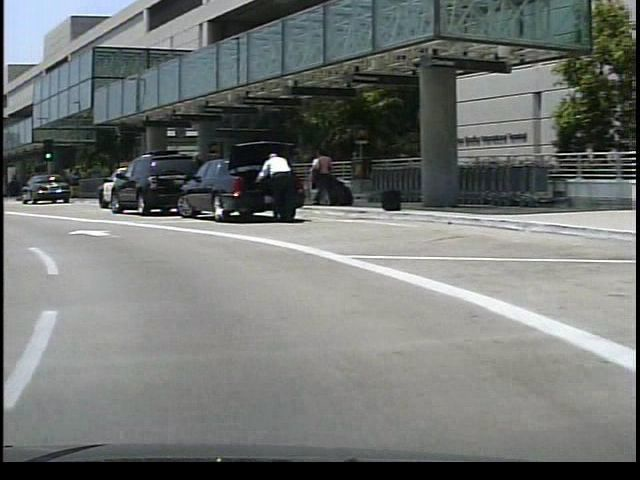person: (250, 150, 295, 228), (310, 148, 331, 210), (303, 148, 322, 211)
